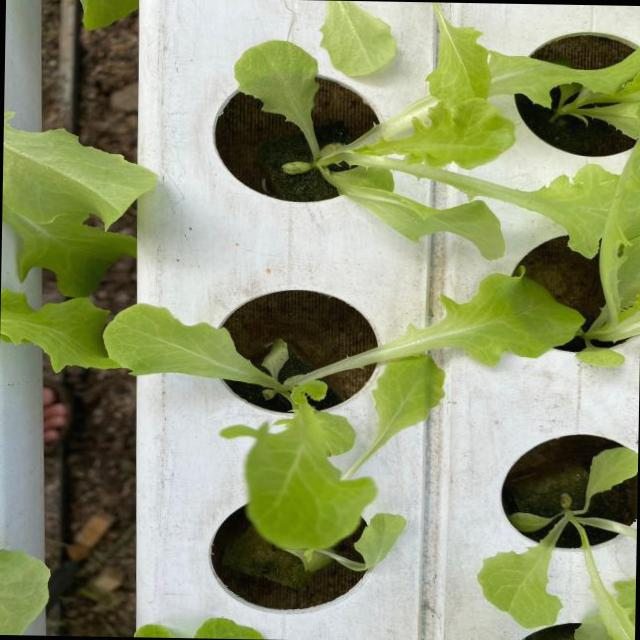Lettuce-Not-Ready-to-Harvest: (105, 274, 581, 553), (234, 41, 620, 256), (0, 112, 155, 370), (478, 446, 638, 640), (490, 47, 640, 139), (320, 0, 396, 75)
